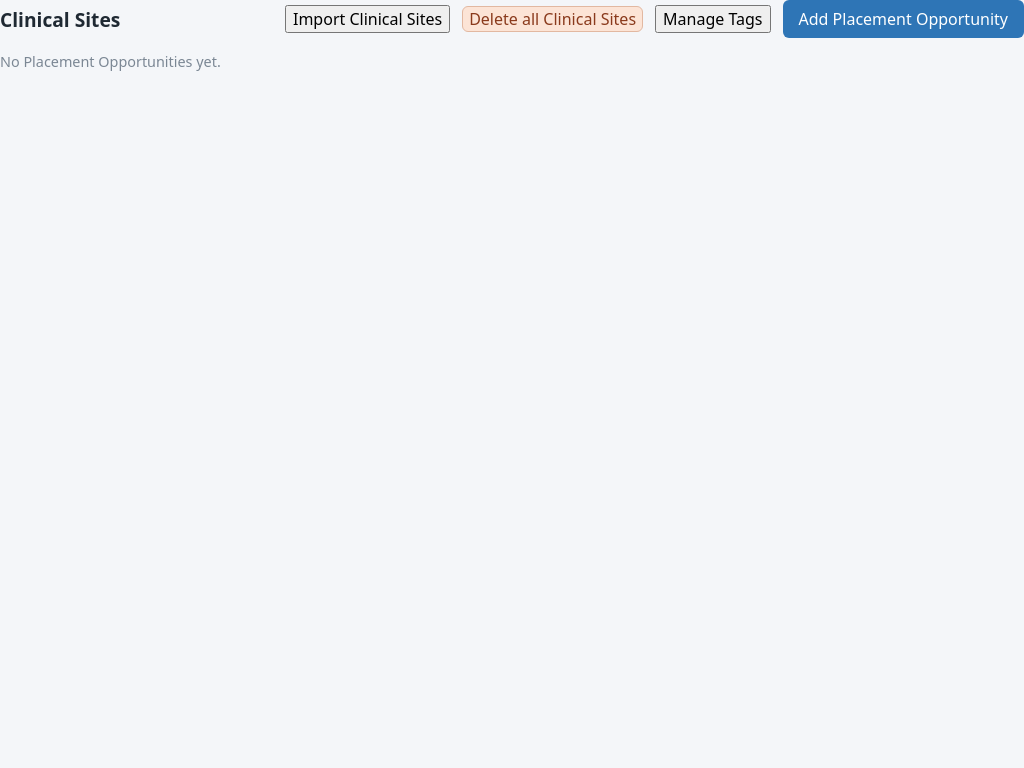
it: ClinicalSitesPage › shows validation errors without saving
The width and height of the screenshot is (1024, 768).
Expected: the text "No Placement Opportunities yet." is shown, x1=0 y1=52 x2=221 y2=71
Step 1. Click the button "Add Placement Opportunity" → click(903, 19), box x1=782 y1=0 x2=1023 y2=38
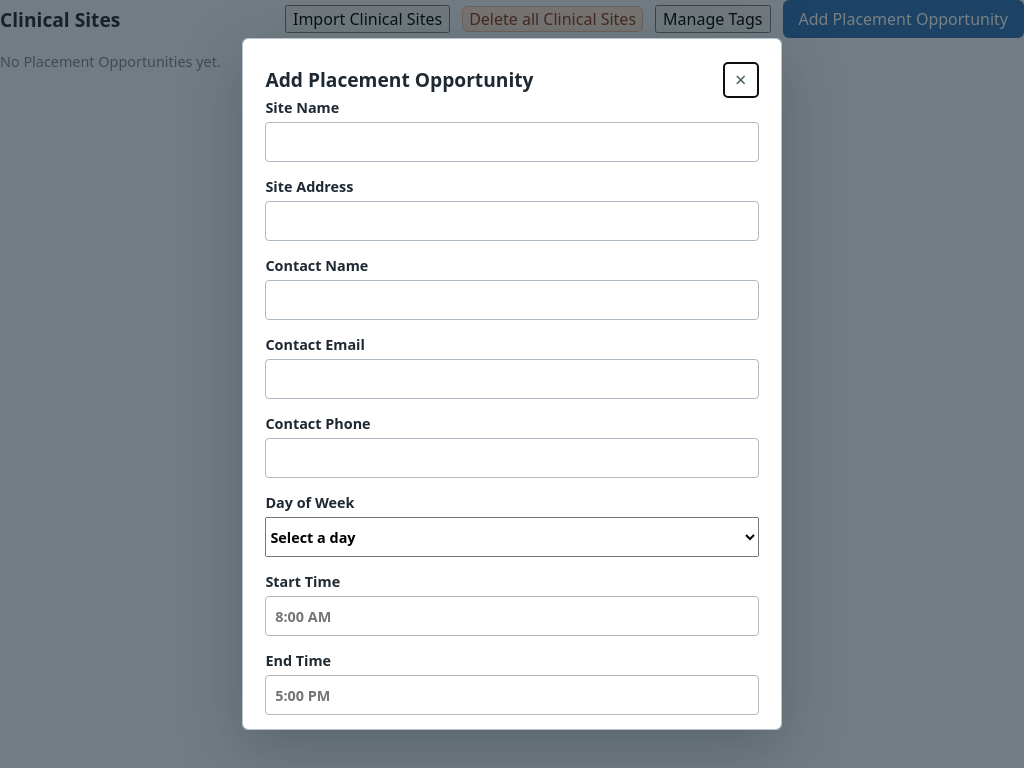
Step 2. Type "X" into the field labelled "Site Name" → (512, 142), box x1=265 y1=122 x2=759 y2=162
Step 3. Select "Monday" in the dropdown labelled "Day of Week" → (512, 537), box x1=265 y1=517 x2=759 y2=557
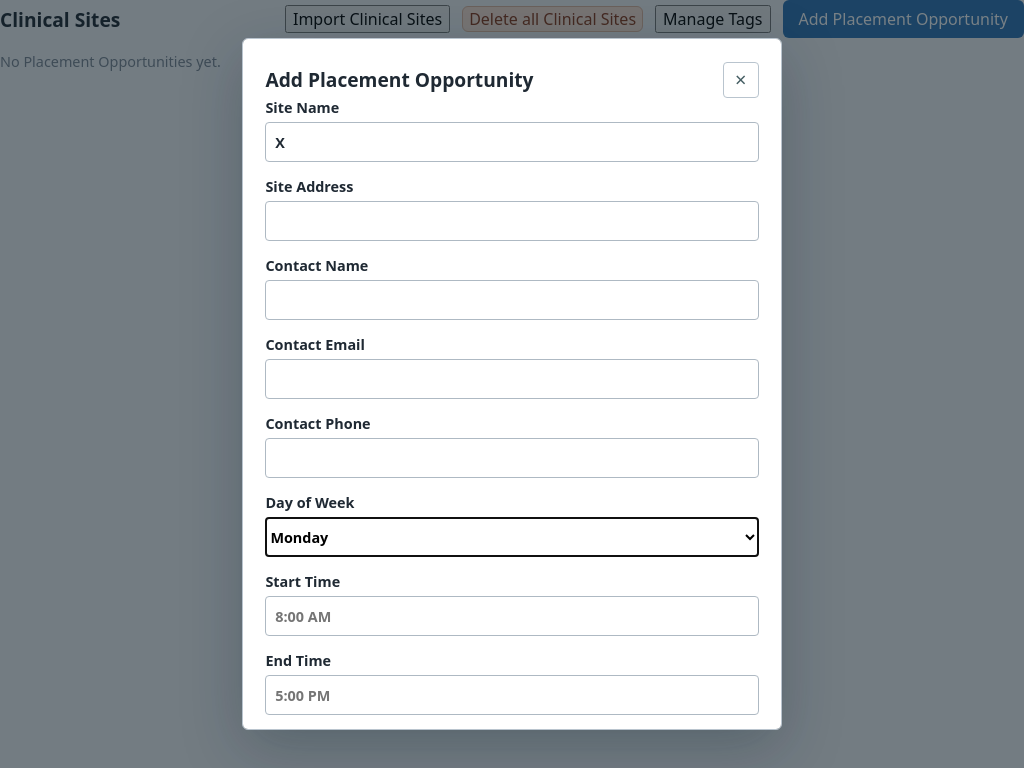
Step 4. Type "5:00 PM" into the field labelled "Start Time" → (512, 616), box x1=265 y1=596 x2=759 y2=636
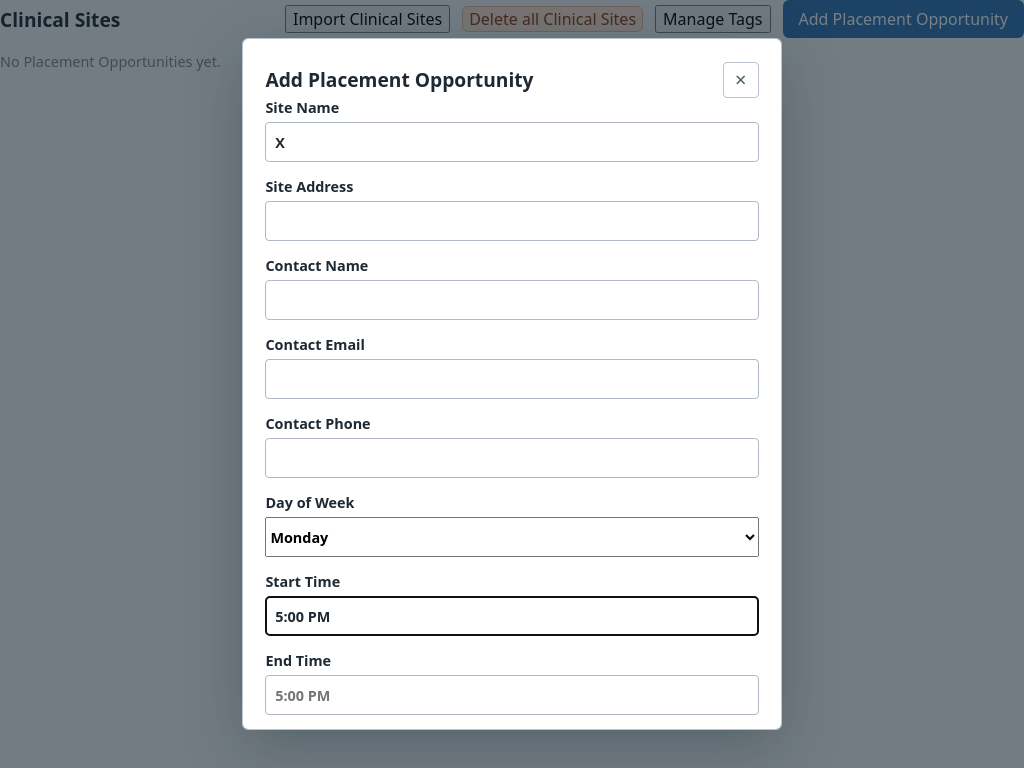
Step 5. Type "9:00 AM" into the field labelled "End Time" → (512, 695), box x1=265 y1=675 x2=759 y2=715
(page scrolled)
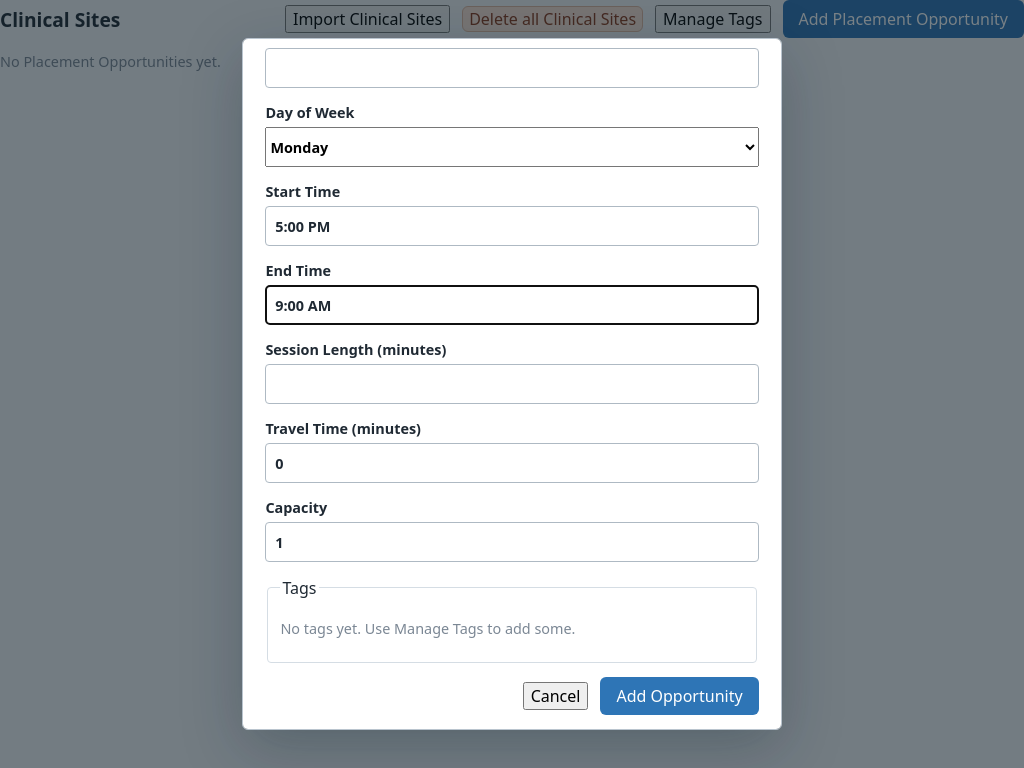
Step 6. Type "0" into the field labelled "Session Length (minutes)" → (512, 384), box x1=265 y1=364 x2=759 y2=404
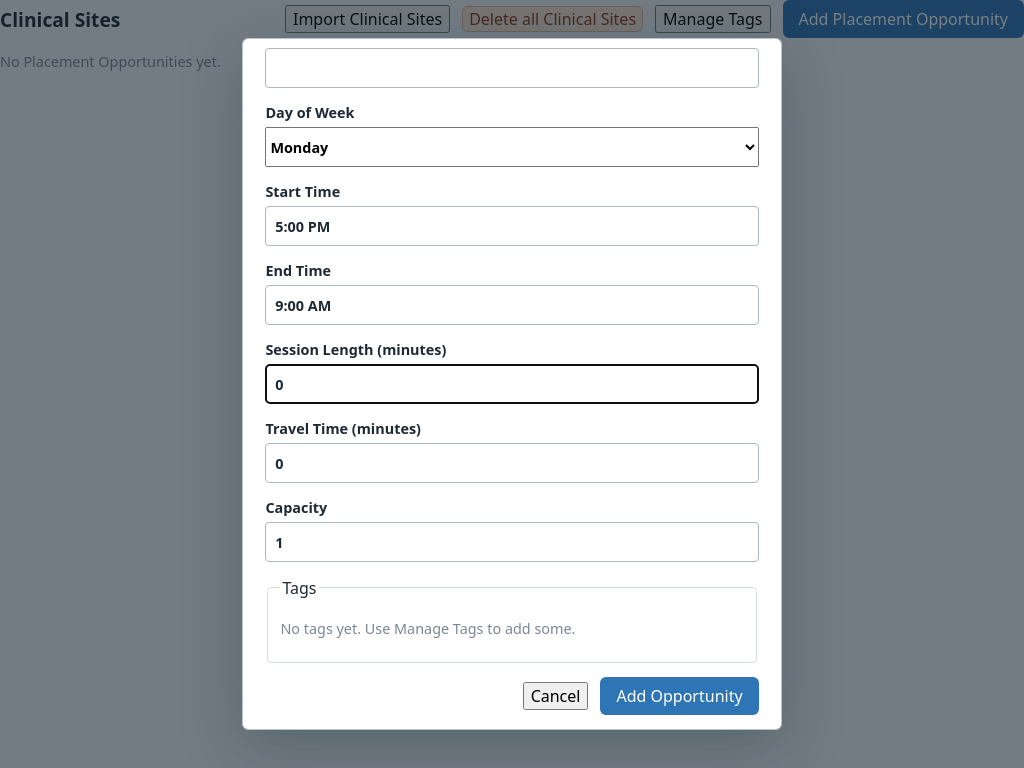
Step 7. Click the button "Add Opportunity" → click(680, 696), box x1=600 y1=677 x2=759 y2=715
(page scrolled)
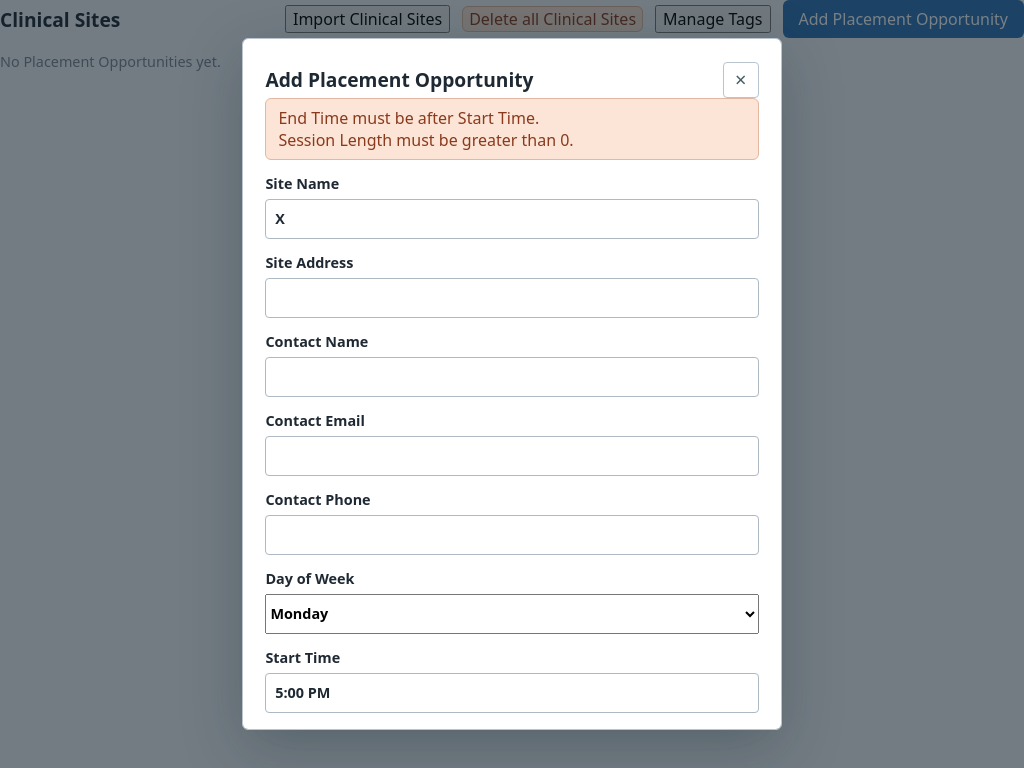
Now the text "End Time must be after Start Time." is shown, box x1=278 y1=107 x2=539 y2=129
Now the text "Session Length must be greater than 0." is shown, box x1=278 y1=129 x2=574 y2=151
